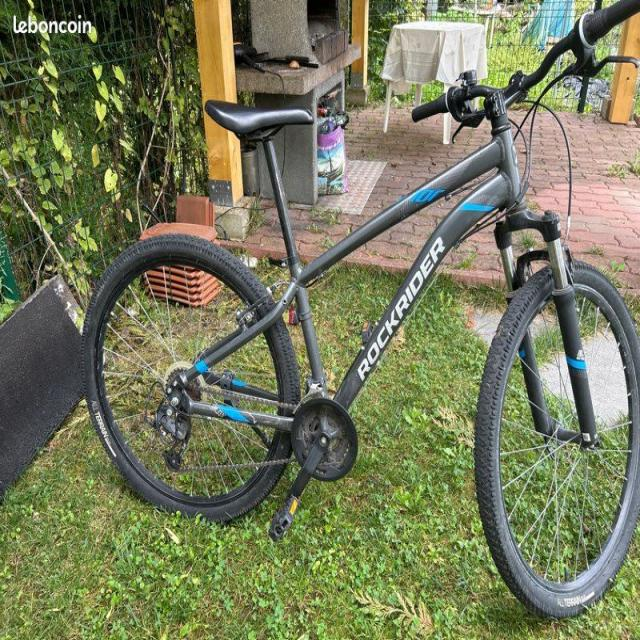Bike: (83, 0, 639, 617)
